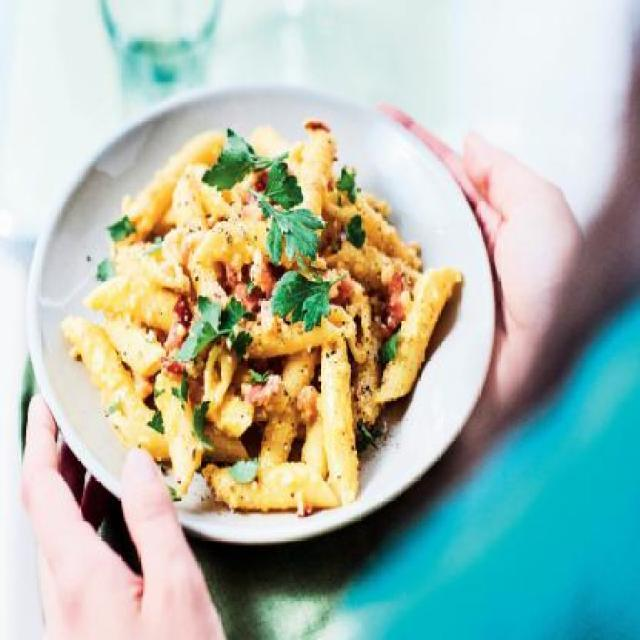Pasta with carbonara sauce: (64, 86, 473, 552)
